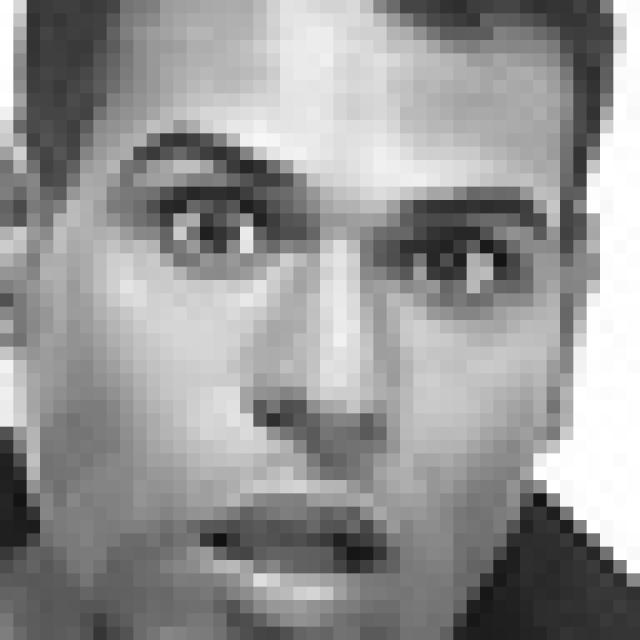surprise: (102, 118, 556, 622)
